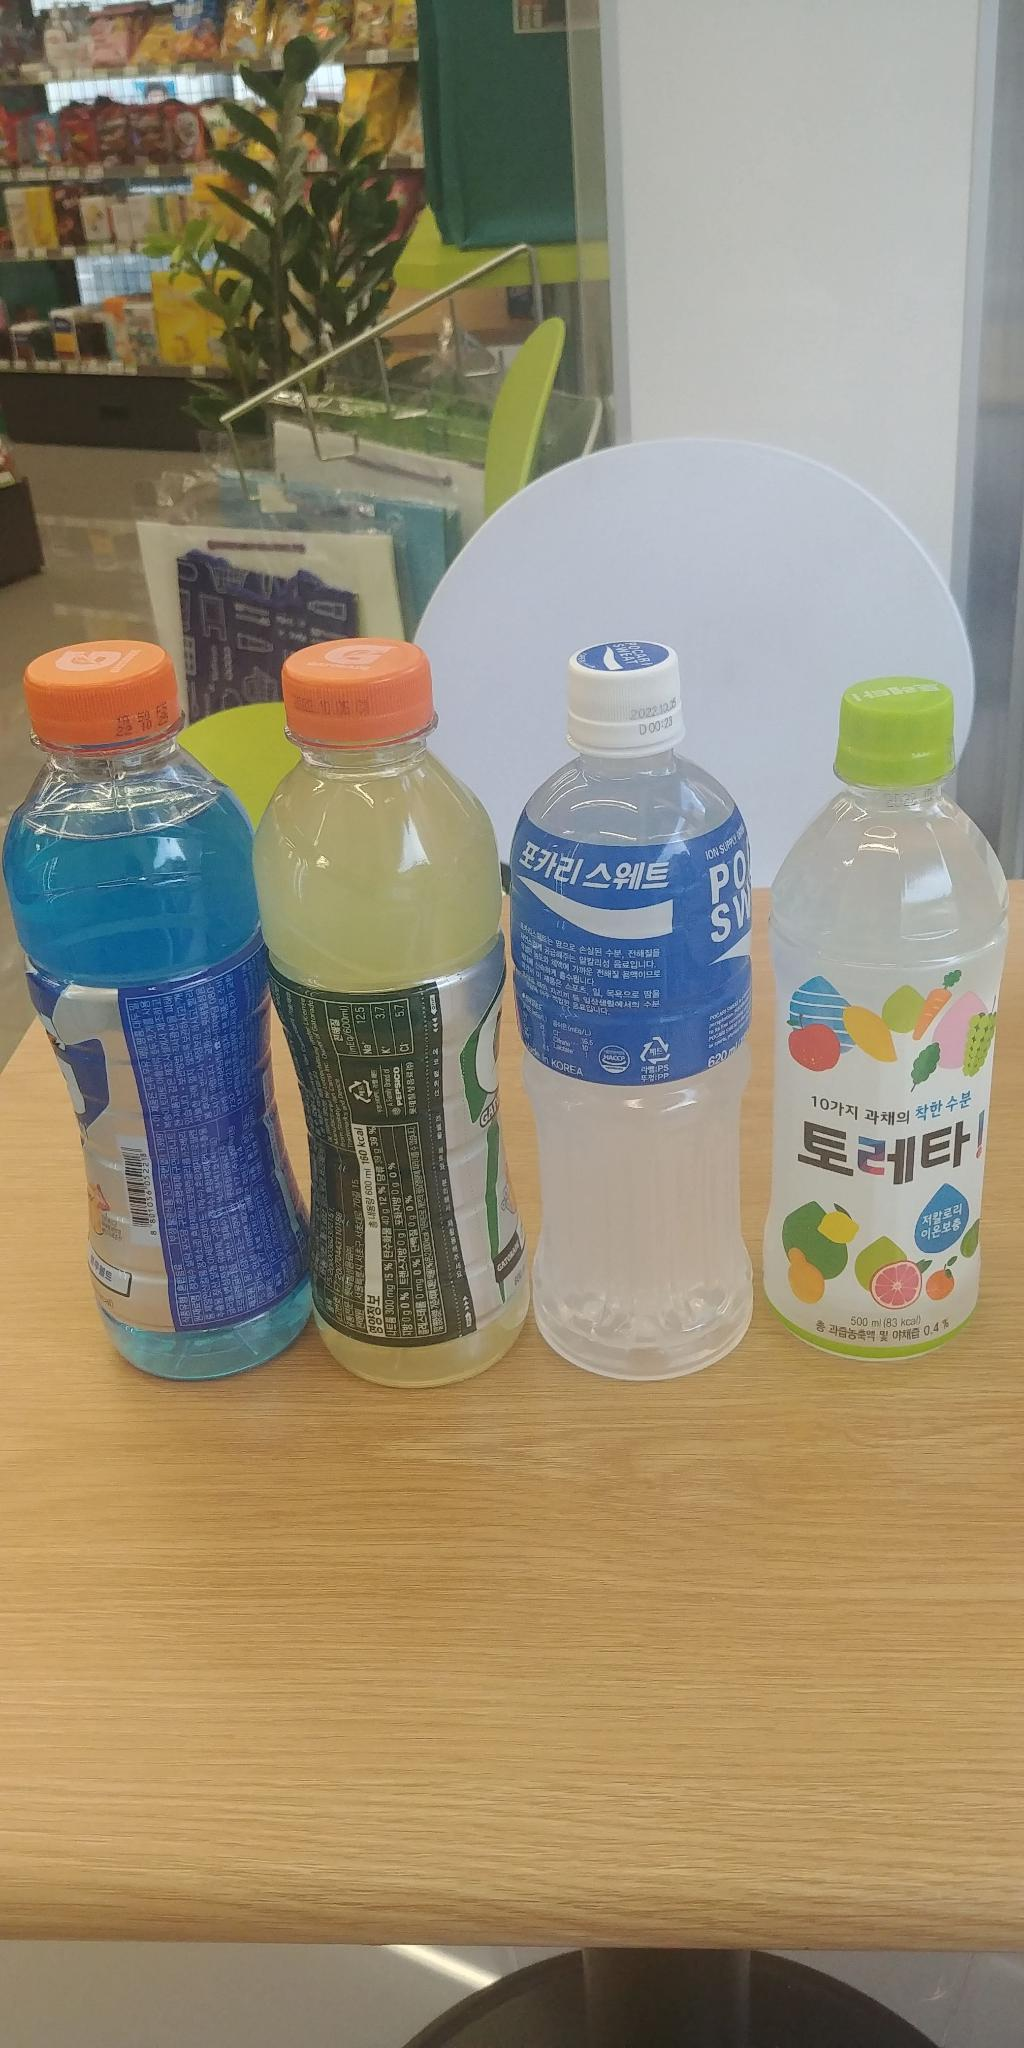gatorade_lemon: (247, 623, 549, 1387)
pocarisweat: (499, 644, 771, 1378)
toreta: (739, 665, 1019, 1356)
